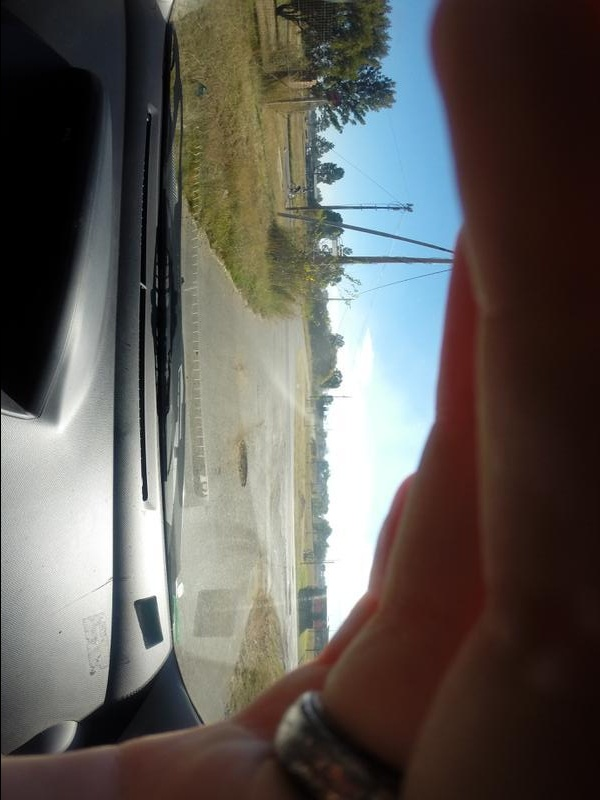pothole: (224, 431, 256, 508)
